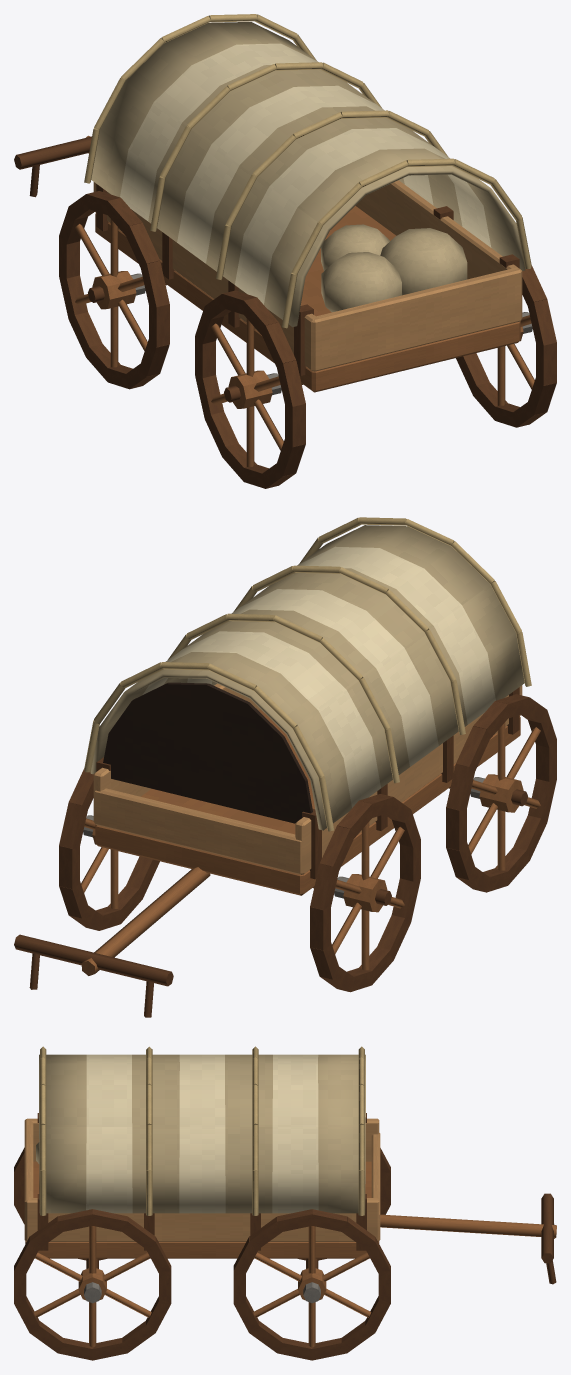
File: carro_coperto.glb
The picture shows the model from 3 angles, top to bottom: view 1: azimuth 30°, elevation 25°; view 2: azimuth 150°, elevation 25°; view 3: azimuth 270°, elevation 25°; orthographic projection. The views are drawn at different scales.
Parts seen in each view (by area): view 1: SM_carro_coperto; view 2: SM_carro_coperto; view 3: SM_carro_coperto.
Part boxes in pixels (bbox=[...]): SM_carro_coperto: bbox=[14, 14, 556, 488]; SM_carro_coperto: bbox=[14, 517, 556, 1017]; SM_carro_coperto: bbox=[14, 1046, 556, 1360].
Size of the model in its own units: 1.58 by 1.57 by 3.07.
1 material, 1 textured.
